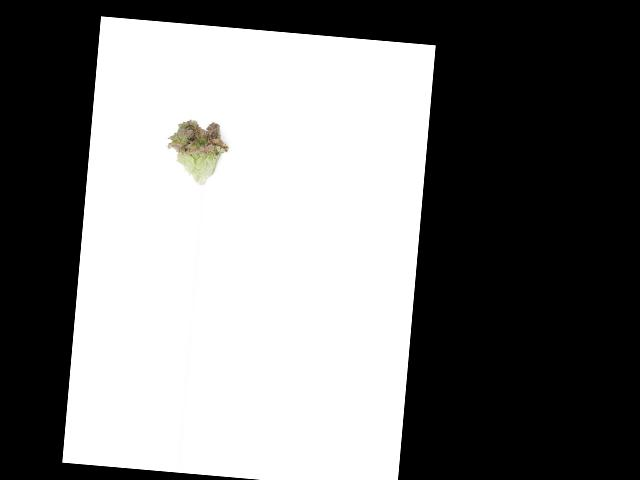lettuce: (161, 109, 237, 189)
